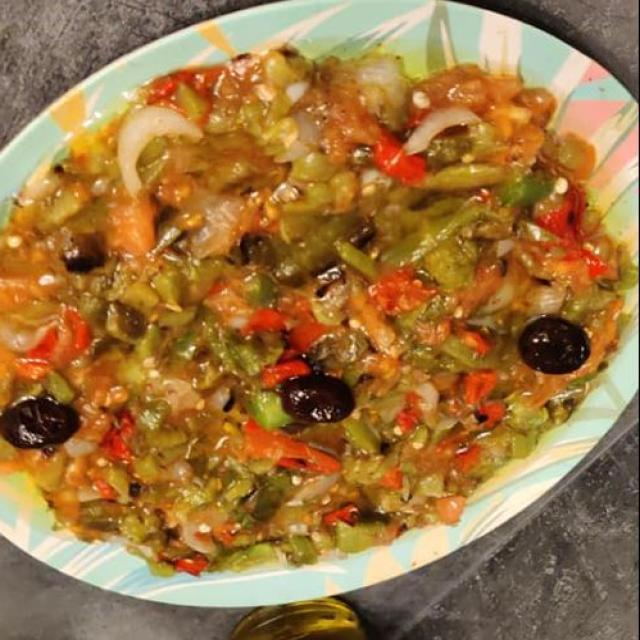Salade mechweya: (0, 48, 629, 612)
